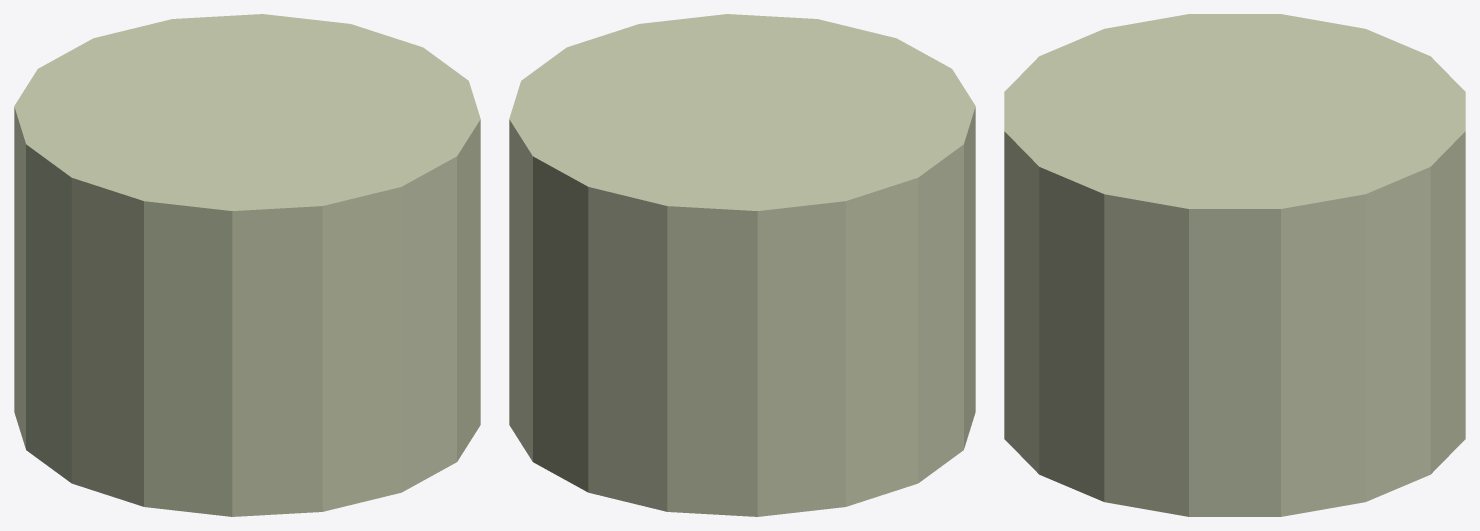
The model's file is Alniyat_Crew_3_1_Collider.obj.
The picture shows the model from 3 angles, left to right: view 1: azimuth 30°, elevation 25°; view 2: azimuth 150°, elevation 25°; view 3: azimuth 270°, elevation 25°; orthographic projection.
Visible parts, largest first — view 1: Alniyat_Crew_3_1_Collider; view 2: Alniyat_Crew_3_1_Collider; view 3: Alniyat_Crew_3_1_Collider.
Part boxes in pixels (box(x1,y1,x2,y2)): Alniyat_Crew_3_1_Collider: box(14, 14, 480, 516); Alniyat_Crew_3_1_Collider: box(509, 14, 975, 516); Alniyat_Crew_3_1_Collider: box(1004, 14, 1465, 516).
Size of the model in its own units: 1.88 by 1.38 by 1.88.
